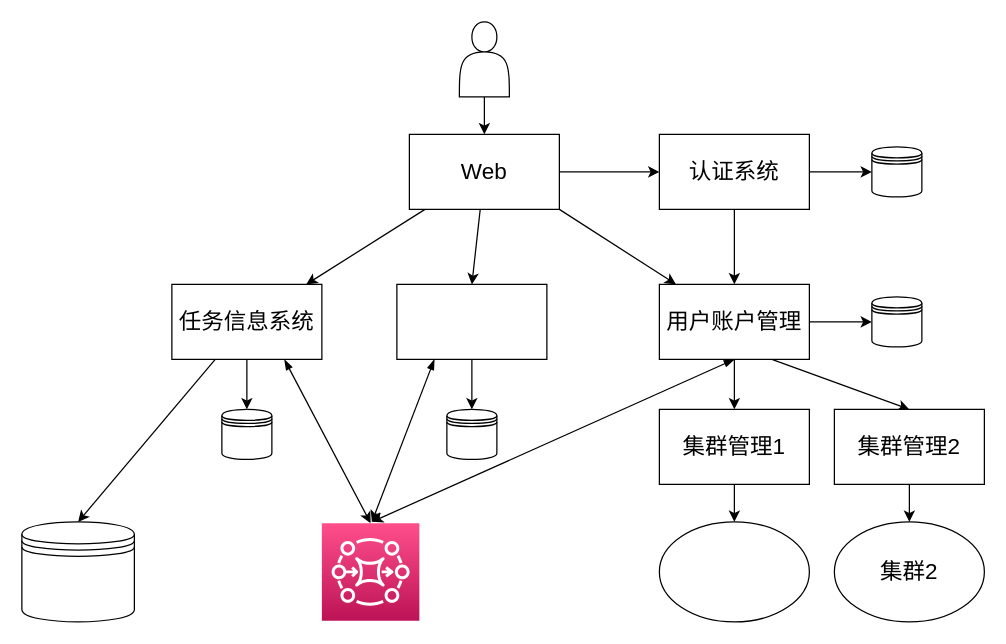
Image size: 1006x644. Some labels were removed from this diagram. The shapes that lost their labels are listed below. From the top down, each one's centre as x and y in pixels, then its label:
At (x=471, y=321): "收费系统".
At (x=77, y=571): "job_table".
At (x=733, y=571): "集群1".
